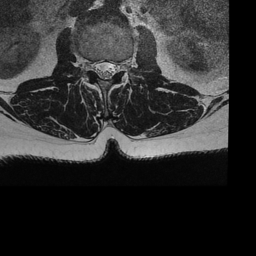CCS_normal: (101, 51, 109, 85)
LFS_normal: (117, 51, 125, 79)
LLS_normal: (110, 51, 117, 82)
RFS_normal: (84, 51, 92, 78)
RLS_normal: (92, 53, 101, 80)
